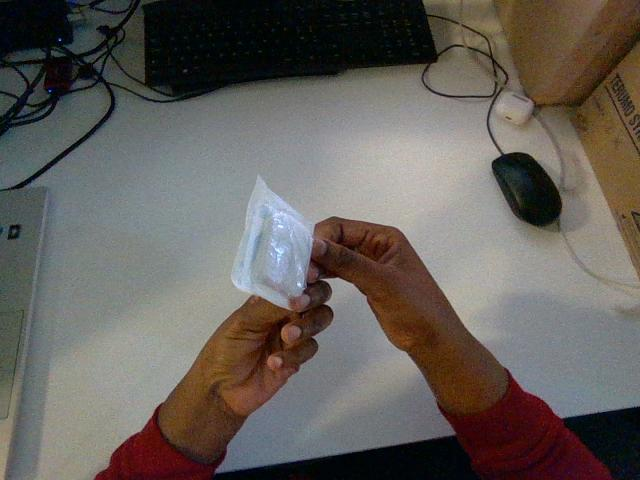gauze: (231, 176, 313, 308)
